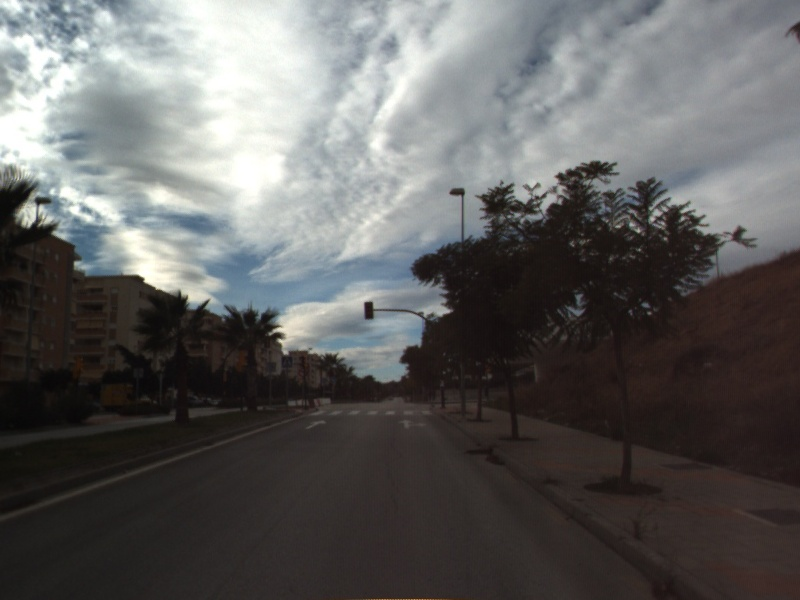STRAIGHT: (303, 418, 329, 431)
STRAIGHT_RIGHT: (396, 417, 429, 431)
